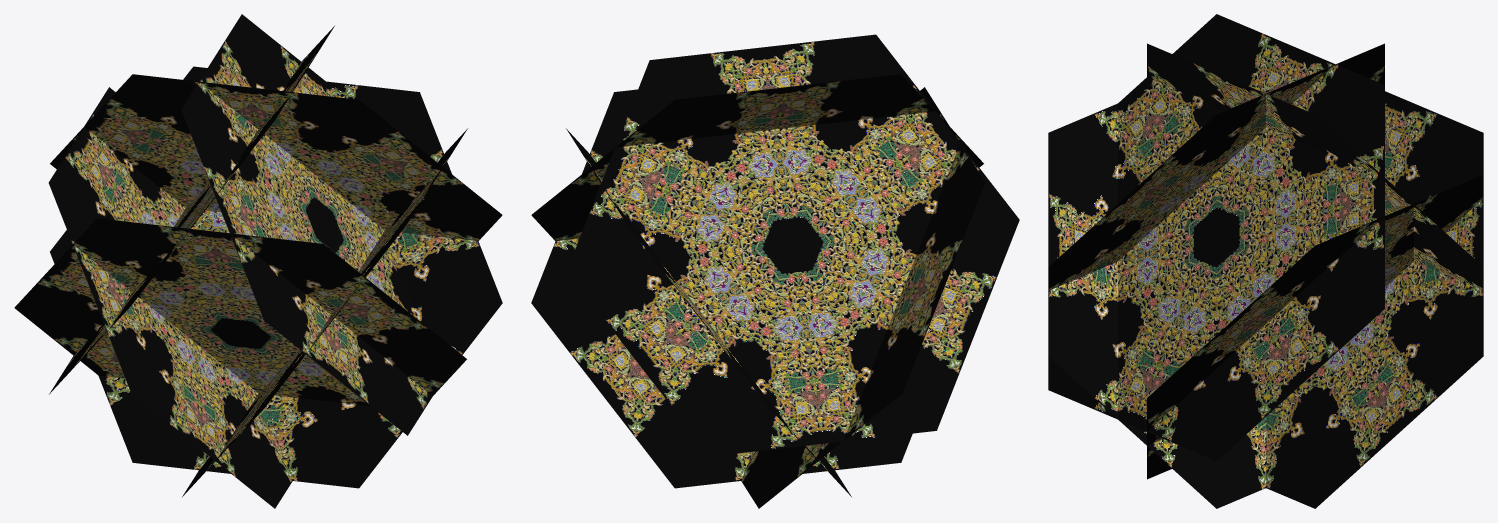
Rendered from GreatTruncatedCuboctahedron4.gltf.
3 renders of one model, left to right at view 1: azimuth 30°, elevation 25°; view 2: azimuth 150°, elevation 25°; view 3: azimuth 270°, elevation 25°, orthographic.
Visible parts, largest first — view 1: GreatTruncatedCuboctahedron; view 2: GreatTruncatedCuboctahedron; view 3: GreatTruncatedCuboctahedron.
Part boxes in pixels (x1,y1,x2,y2): GreatTruncatedCuboctahedron: (14,14,502,508); GreatTruncatedCuboctahedron: (531,34,1019,508); GreatTruncatedCuboctahedron: (1048,14,1483,508).
Bounding box in the file's own units: 1.83 × 1.83 × 1.83.
1 material, 1 textured.
